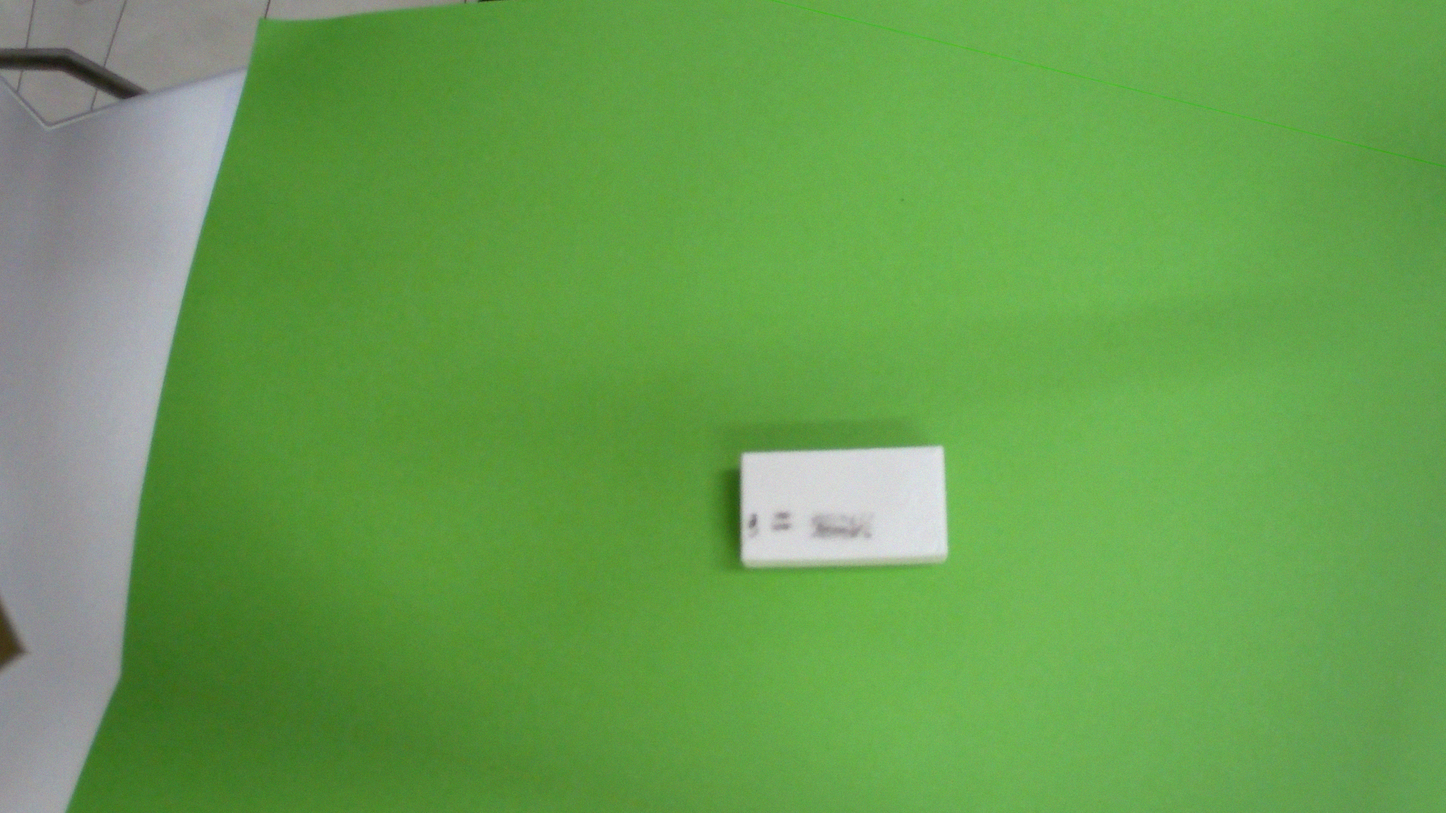gom: (702, 396, 973, 617)
